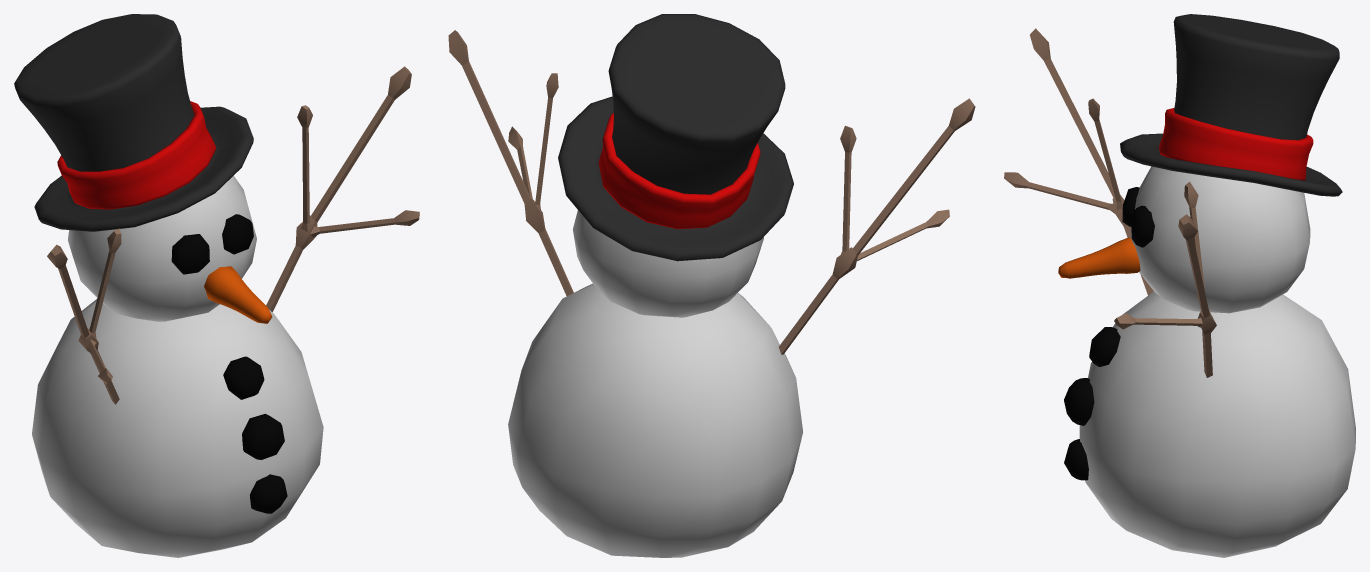
The model's file is Snowman.fbx.
3 views of the same model, side by side, from view 1: azimuth 30°, elevation 25°; view 2: azimuth 150°, elevation 25°; view 3: azimuth 270°, elevation 25° (orthographic). The views are drawn at different scales.
Parts seen in each view (by area): view 1: BouleBasse, ChapeauCorps, BouleHaute, ChapeauBandeau, Left_Arm, Right_Arm, Carotte, BoutonMilieu, BoutonHaut, OeilDroit, BoutonBas, OeilGauche; view 2: BouleBasse, ChapeauCorps, BouleHaute, ChapeauBandeau, Right_Arm, Left_Arm; view 3: BouleBasse, ChapeauCorps, BouleHaute, ChapeauBandeau, Right_Arm, Left_Arm, Carotte, BoutonMilieu, BoutonHaut, OeilGauche, BoutonBas, OeilDroit.
Boxes of the visible parts, x1=… form: BouleBasse: x1=32, y1=299, x2=323, y2=557; ChapeauCorps: x1=14, y1=14, x2=253, y2=231; BouleHaute: x1=68, y1=175, x2=256, y2=321; ChapeauBandeau: x1=57, y1=101, x2=215, y2=209; Left_Arm: x1=266, y1=66, x2=419, y2=312; Right_Arm: x1=47, y1=228, x2=121, y2=404; Carotte: x1=204, y1=266, x2=272, y2=323; BoutonMilieu: x1=242, y1=413, x2=284, y2=459; BoutonHaut: x1=223, y1=356, x2=264, y2=399; OeilDroit: x1=171, y1=234, x2=209, y2=274; BoutonBas: x1=250, y1=474, x2=287, y2=513; OeilGauche: x1=222, y1=214, x2=253, y2=254; BouleBasse: x1=508, y1=283, x2=802, y2=557; ChapeauCorps: x1=558, y1=14, x2=793, y2=261; BouleHaute: x1=573, y1=210, x2=763, y2=317; ChapeauBandeau: x1=598, y1=112, x2=760, y2=229; Right_Arm: x1=779, y1=98, x2=975, y2=354; Left_Arm: x1=448, y1=30, x2=573, y2=295; BouleBasse: x1=1079, y1=291, x2=1355, y2=557; ChapeauCorps: x1=1120, y1=14, x2=1342, y2=196; BouleHaute: x1=1131, y1=166, x2=1310, y2=313; ChapeauBandeau: x1=1159, y1=108, x2=1313, y2=180; Right_Arm: x1=1004, y1=28, x2=1153, y2=295; Left_Arm: x1=1114, y1=181, x2=1216, y2=377; Carotte: x1=1058, y1=237, x2=1140, y2=278; BoutonMilieu: x1=1064, y1=378, x2=1094, y2=425; BoutonHaut: x1=1089, y1=327, x2=1120, y2=366; OeilGauche: x1=1131, y1=205, x2=1154, y2=247; BoutonBas: x1=1064, y1=439, x2=1088, y2=480; OeilDroit: x1=1122, y1=187, x2=1139, y2=226.
Size of the model in its own units: 234 by 263 by 166.
